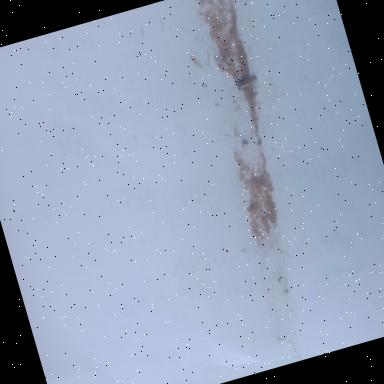pbw: (214, 53, 235, 80), (235, 74, 259, 90)
